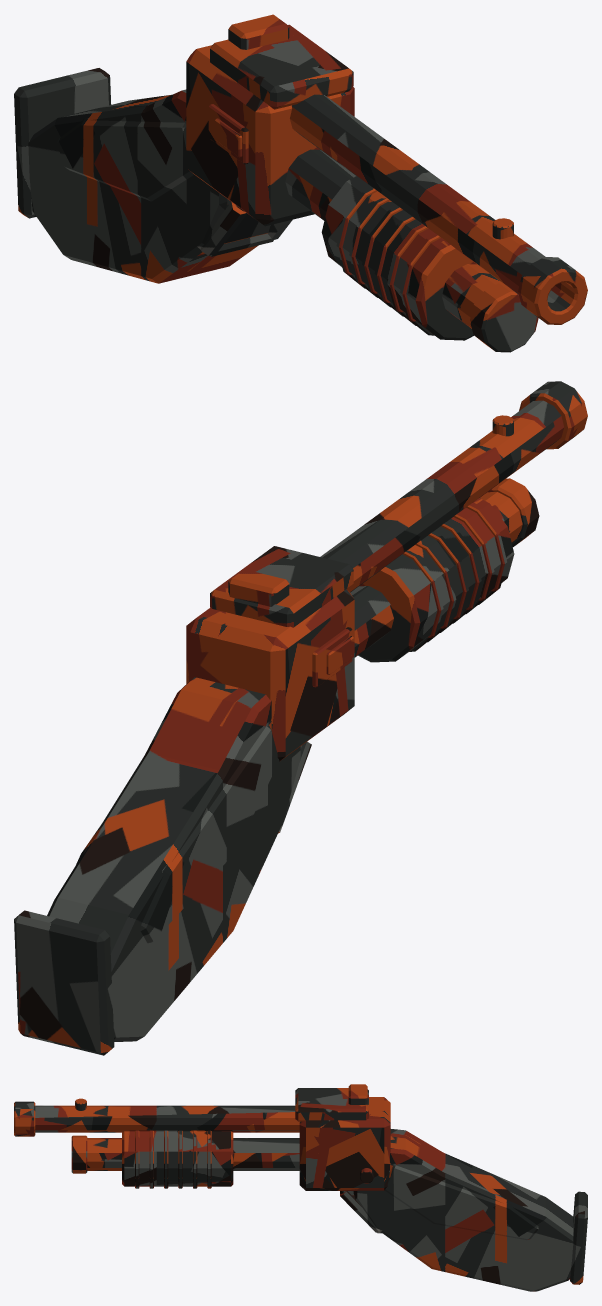
File: Remington870_Rusted.glb
3 views of the same model, one above another, from view 1: azimuth 30°, elevation 25°; view 2: azimuth 150°, elevation 25°; view 3: azimuth 270°, elevation 25° (orthographic). The views are drawn at different scales.
Visible parts, largest first — view 1: FTF_Weapon_Remington870_RustedIron_Mesh; view 2: FTF_Weapon_Remington870_RustedIron_Mesh; view 3: FTF_Weapon_Remington870_RustedIron_Mesh.
Part boxes in pixels (x1,y1,x2,y2): FTF_Weapon_Remington870_RustedIron_Mesh: (14, 14, 587, 352); FTF_Weapon_Remington870_RustedIron_Mesh: (14, 381, 587, 1055); FTF_Weapon_Remington870_RustedIron_Mesh: (14, 1084, 587, 1291).
Size of the model in its own units: 0.271 by 0.7341 by 1.99.
Materials: 1 (1 with a texture image).
